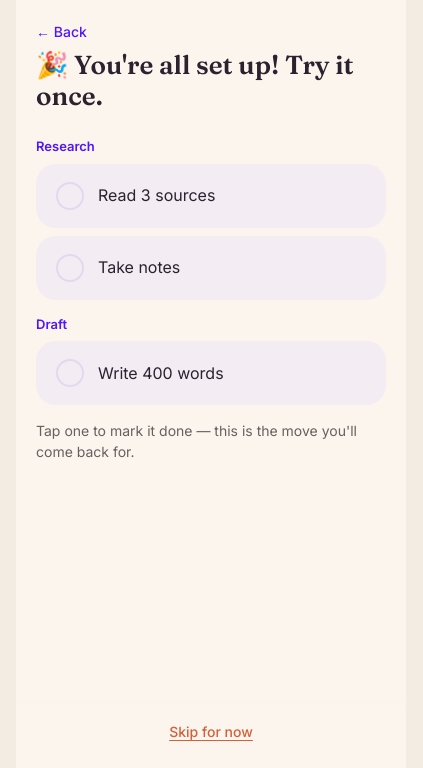
Test: completing an action reveals the peak message and science note immediately
The width and height of the screenshot is (423, 768).
Step 1. Click the button with aria-label "mark done: read 3 sources" → [136, 196], box [56,182,215,210]
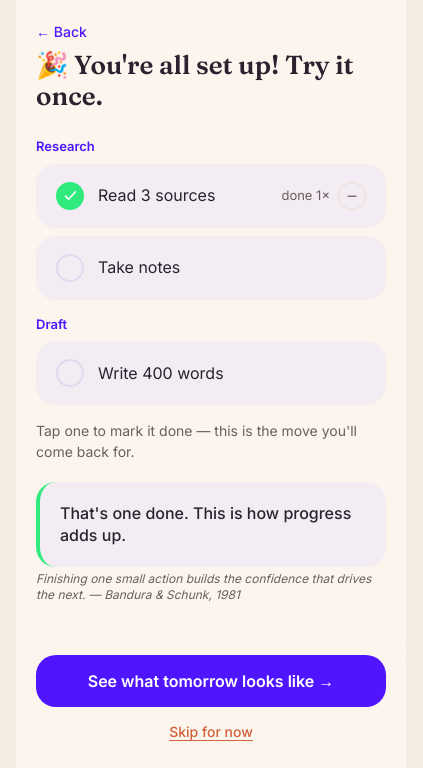
expect the text "That's one done. This is how progress adds up." is shown: met, box [36,482,386,567]
expect the text "Bandura & Schunk" is shown: met, box [36,570,371,602]
